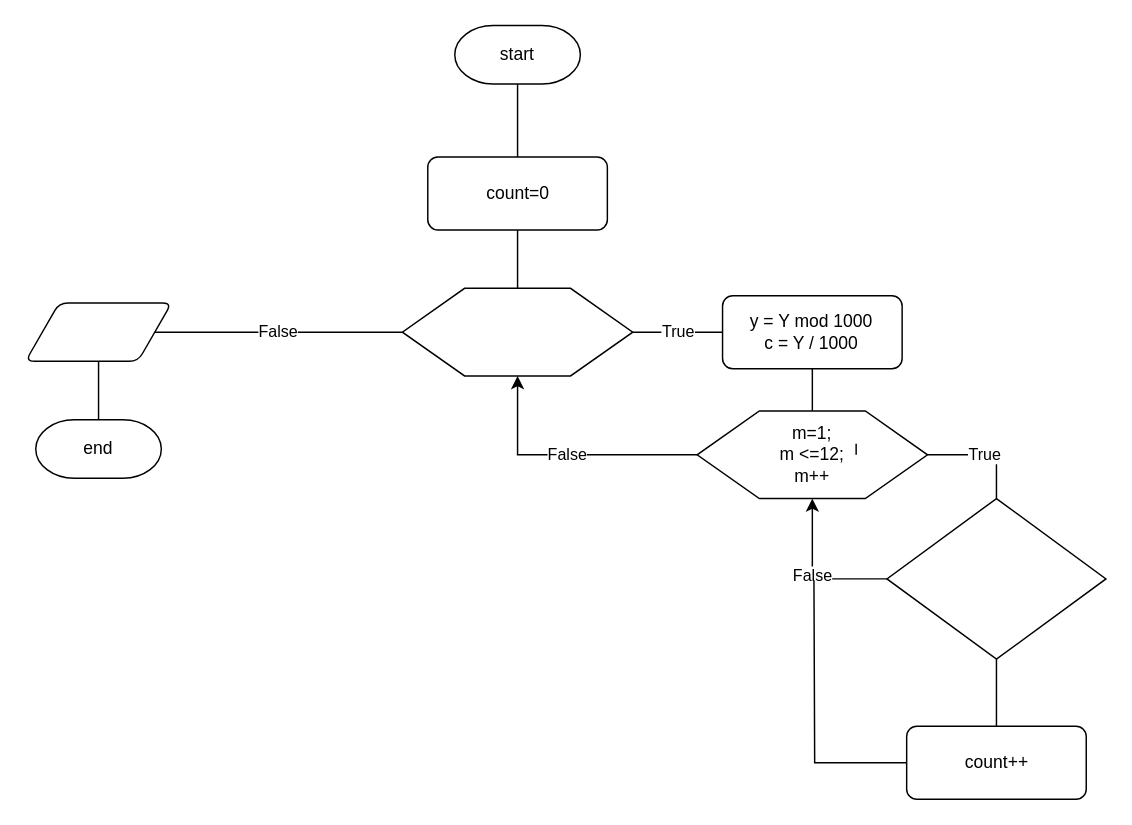
This 1132x825 diagram has some shape labels left out. Here are the shapes that lost their labels. From the top down, the box of each, then its label:
(24, 301, 172, 361): count
(401, 287, 633, 376): Y = 1582; Y <= 4902; Y++
(885, 497, 1106, 659): ((2.6*m-0.2)+13+y+y/4+ c/4-2*c)mod 7 = 5
